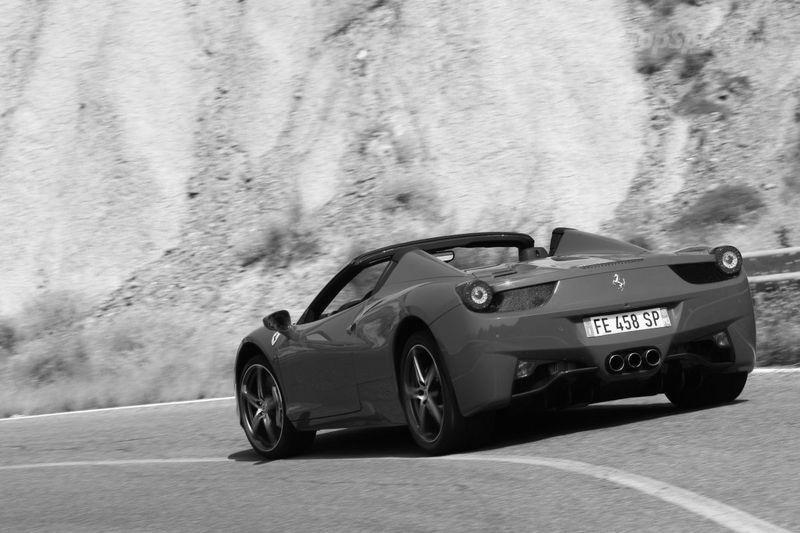car: (247, 216, 749, 477)
